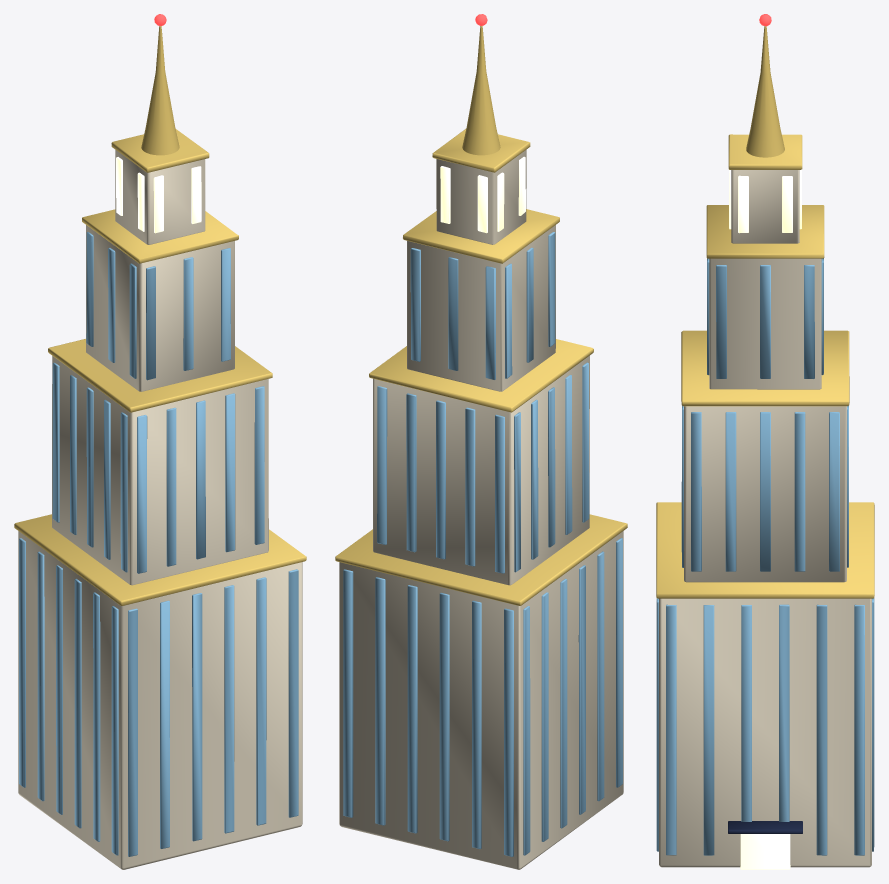
File: skyscraper.glb
3 renders of one model, left to right at view 1: azimuth 30°, elevation 25°; view 2: azimuth 150°, elevation 25°; view 3: azimuth 270°, elevation 25°, orthographic.
Parts seen in each view (by area): view 1: skyscraper; view 2: skyscraper; view 3: skyscraper.
Boxes of the visible parts, <box> form: skyscraper: <box>14,14,306,869</box>; skyscraper: <box>335,14,627,869</box>; skyscraper: <box>656,14,874,869</box>.
Bounding box in the file's own units: 18.88 × 71.08 × 17.38.
1 material, 1 textured.
